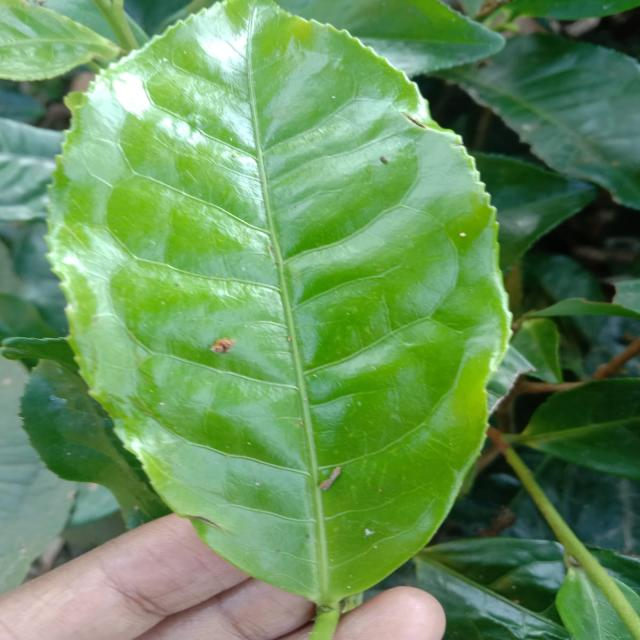Category B 2-4 days: (44, 0, 517, 620)
